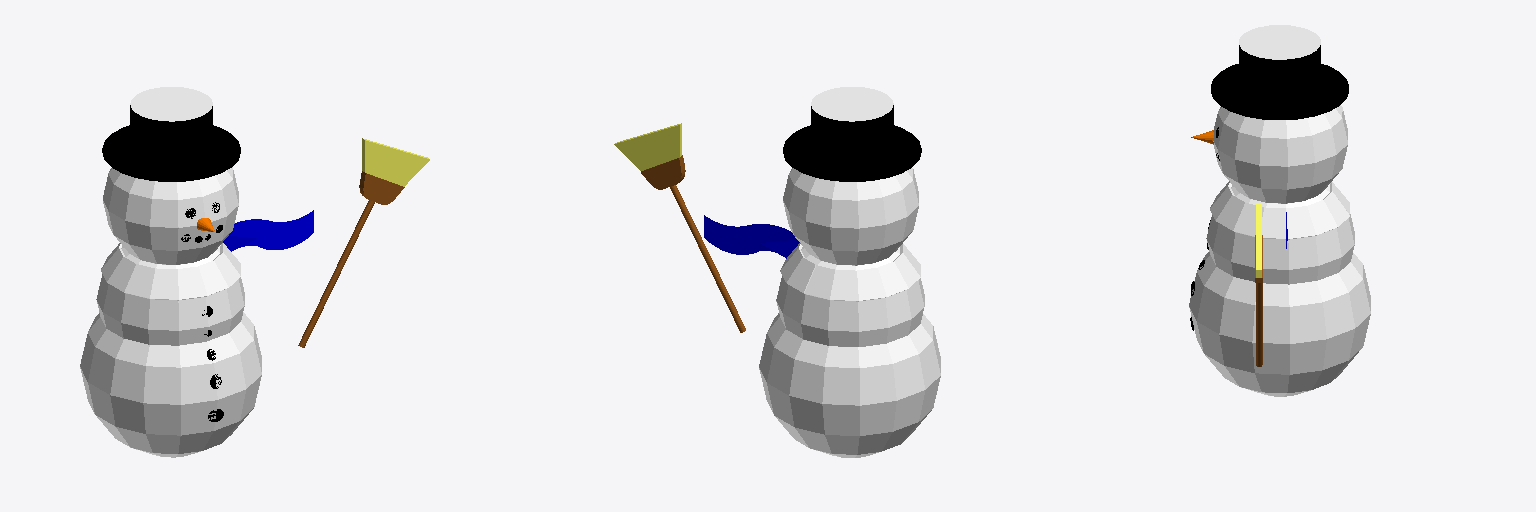
File: lumiukko.obj
3 views of the same model, side by side, from view 1: azimuth 30°, elevation 25°; view 2: azimuth 150°, elevation 25°; view 3: azimuth 270°, elevation 25° (orthographic).
Visible parts, largest first — view 1: lumiukko-COM-Sphere__from_15-sided_polygon_-5624-Color_000, lumiukko-SKP-Default_Material, lumiukko-COM-Sphere__from_15-sided_polygon_-5625-Color_000, lumiukko-SKP-Color_009, lumiukko-SKP-Color_I01, lumiukko-SKP-Color_E03, lumiukko-SKP-Color_C12, lumiukko-GRP-9867-Color_C12; view 2: lumiukko-COM-Sphere__from_15-sided_polygon_-5624-Color_000, lumiukko-SKP-Default_Material, lumiukko-COM-Sphere__from_15-sided_polygon_-5625-Color_000, lumiukko-SKP-Color_009, lumiukko-SKP-Color_I01, lumiukko-SKP-Color_E03, lumiukko-SKP-Color_C12, lumiukko-GRP-9867-Color_C12; view 3: lumiukko-COM-Sphere__from_15-sided_polygon_-5624-Color_000, lumiukko-SKP-Default_Material, lumiukko-COM-Sphere__from_15-sided_polygon_-5625-Color_000, lumiukko-SKP-Color_009, lumiukko-SKP-Color_C12.
Boxes of the visible parts, x1=… form: lumiukko-COM-Sphere__from_15-sided_polygon_-5624-Color_000: x1=80, y1=312, x2=261, y2=457; lumiukko-SKP-Default_Material: x1=96, y1=87, x2=244, y2=345; lumiukko-COM-Sphere__from_15-sided_polygon_-5625-Color_000: x1=103, y1=167, x2=238, y2=264; lumiukko-SKP-Color_009: x1=102, y1=105, x2=240, y2=421; lumiukko-SKP-Color_I01: x1=223, y1=210, x2=313, y2=251; lumiukko-SKP-Color_E03: x1=362, y1=138, x2=429, y2=186; lumiukko-SKP-Color_C12: x1=298, y1=200, x2=374, y2=347; lumiukko-GRP-9867-Color_C12: x1=359, y1=171, x2=404, y2=204; lumiukko-COM-Sphere__from_15-sided_polygon_-5624-Color_000: x1=759, y1=313, x2=940, y2=457; lumiukko-SKP-Default_Material: x1=776, y1=87, x2=924, y2=346; lumiukko-COM-Sphere__from_15-sided_polygon_-5625-Color_000: x1=783, y1=168, x2=918, y2=265; lumiukko-SKP-Color_009: x1=783, y1=105, x2=921, y2=181; lumiukko-SKP-Color_I01: x1=704, y1=215, x2=799, y2=258; lumiukko-SKP-Color_E03: x1=614, y1=123, x2=681, y2=170; lumiukko-SKP-Color_C12: x1=670, y1=185, x2=745, y2=332; lumiukko-GRP-9867-Color_C12: x1=641, y1=155, x2=685, y2=189; lumiukko-COM-Sphere__from_15-sided_polygon_-5624-Color_000: x1=1189, y1=252, x2=1370, y2=396; lumiukko-SKP-Default_Material: x1=1206, y1=25, x2=1354, y2=284; lumiukko-COM-Sphere__from_15-sided_polygon_-5625-Color_000: x1=1213, y1=105, x2=1347, y2=203; lumiukko-SKP-Color_009: x1=1190, y1=45, x2=1348, y2=330; lumiukko-SKP-Color_C12: x1=1256, y1=283, x2=1262, y2=366.
Bounding box in the file's own units: 8.69 × 8.8 × 4.21.